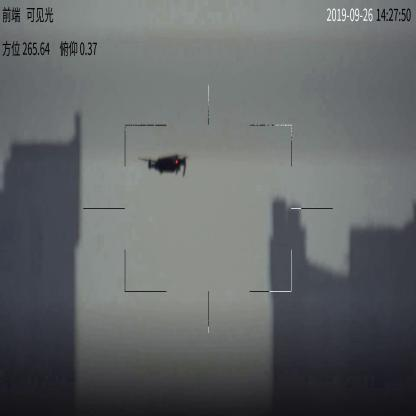uav: (139, 151, 197, 179)
